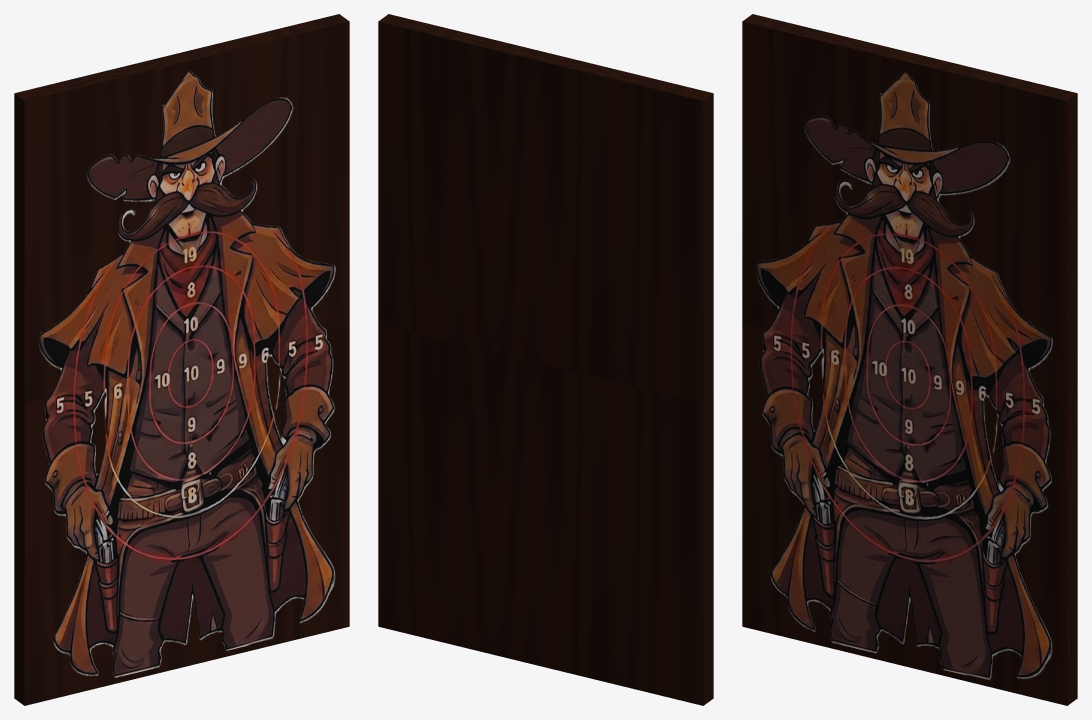
Rendered from banker target.gltf.
3 renders of one model, left to right at view 1: azimuth 30°, elevation 25°; view 2: azimuth 150°, elevation 25°; view 3: azimuth 330°, elevation 25°, orthographic.
Size of the model in its own units: 0.9 by 1.6 by 0.051.
2 materials, 2 textured.
